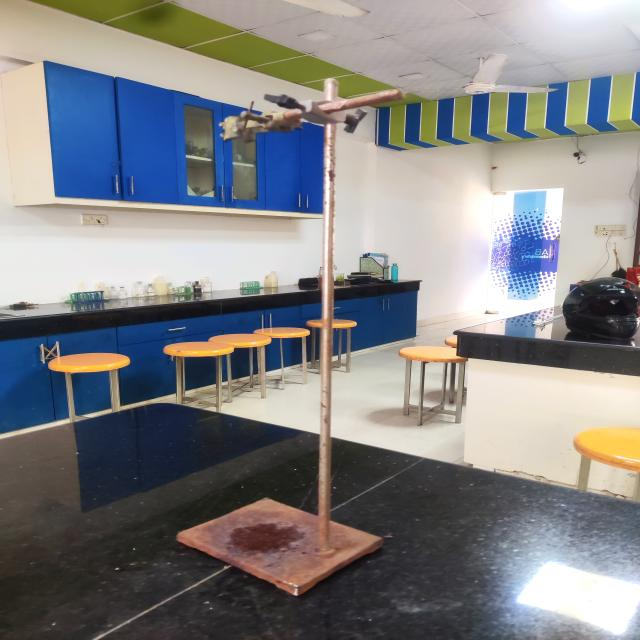Burette_Stands: (152, 48, 438, 622)
